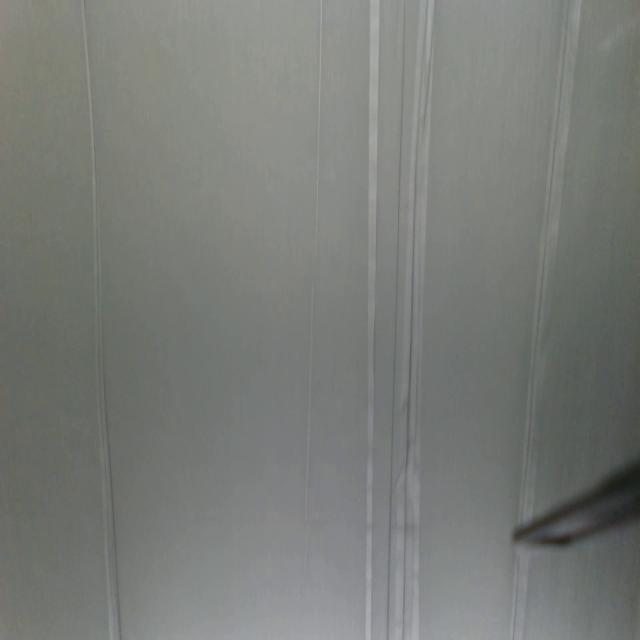crease: (365, 0, 434, 640), (518, 1, 583, 486), (82, 0, 126, 640), (303, 0, 327, 574), (509, 549, 532, 640)
